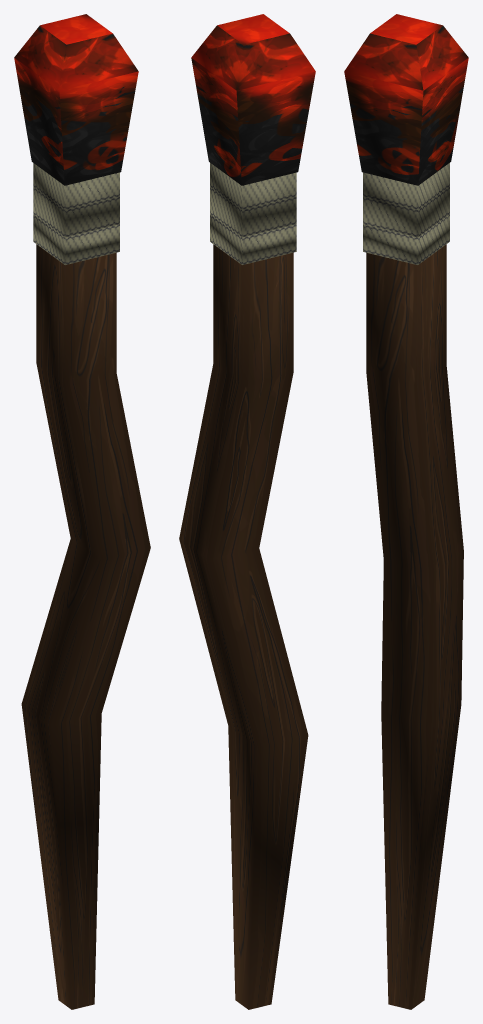
Rendered from Torch_On.fbx.
The picture shows the model from 3 angles, left to right: view 1: azimuth 30°, elevation 25°; view 2: azimuth 210°, elevation 25°; view 3: azimuth 330°, elevation 25°; orthographic projection.
Visible parts, largest first — view 1: Torch_On; view 2: Torch_On; view 3: Torch_On.
Part boxes in pixels (x1=…): Torch_On: x1=14, y1=14, x2=150, y2=1009; Torch_On: x1=179, y1=14, x2=315, y2=1009; Torch_On: x1=344, y1=14, x2=468, y2=1009.
Size of the model in its own units: 0.3513 by 3.6 by 0.355.
